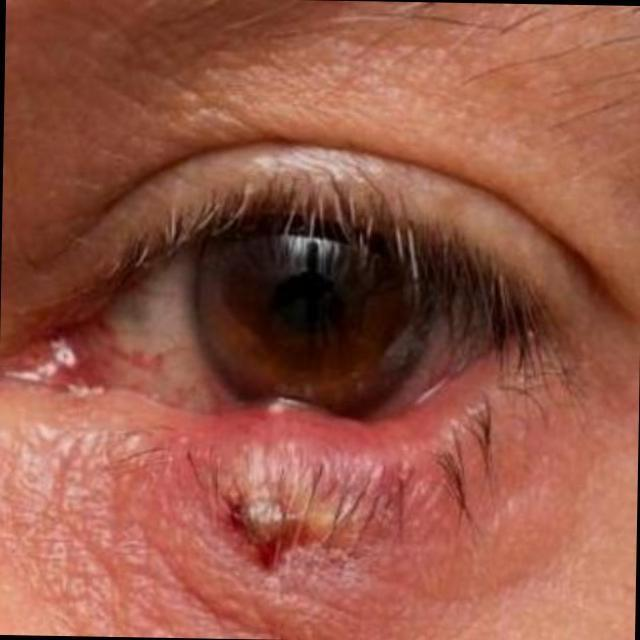Stye: (147, 346, 461, 588)
